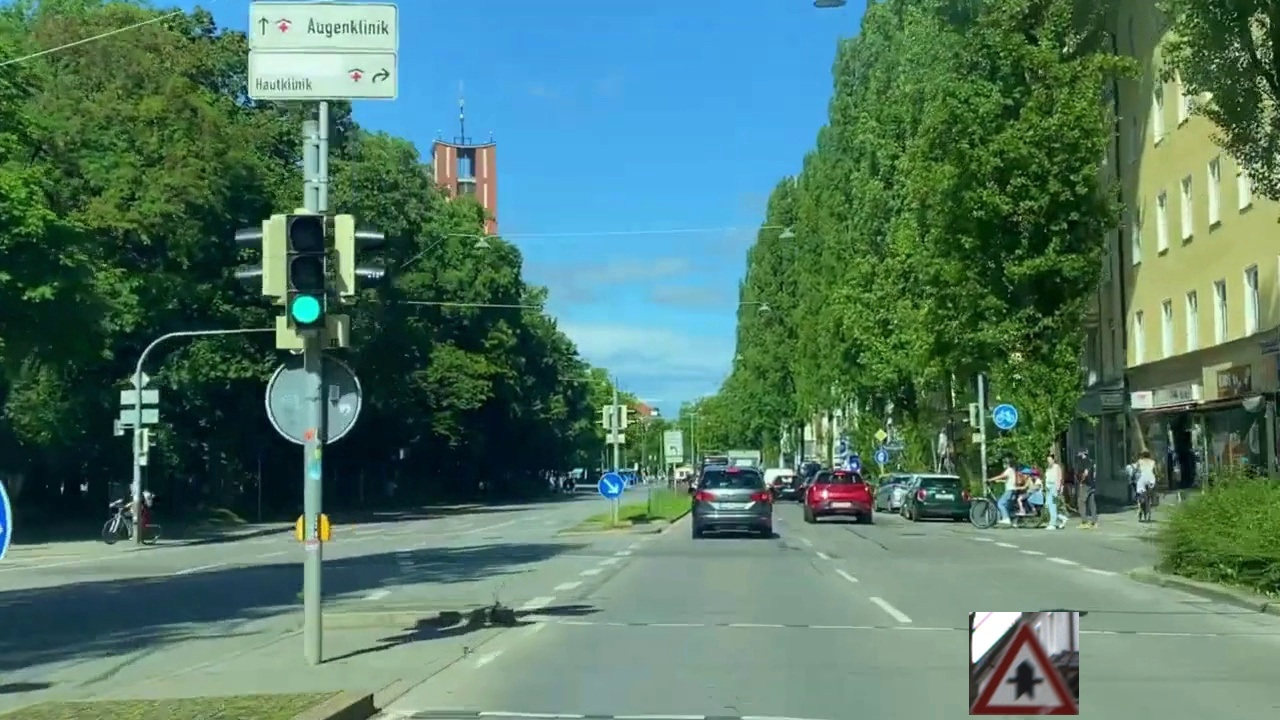Right-of-way: (969, 612, 1079, 715)
